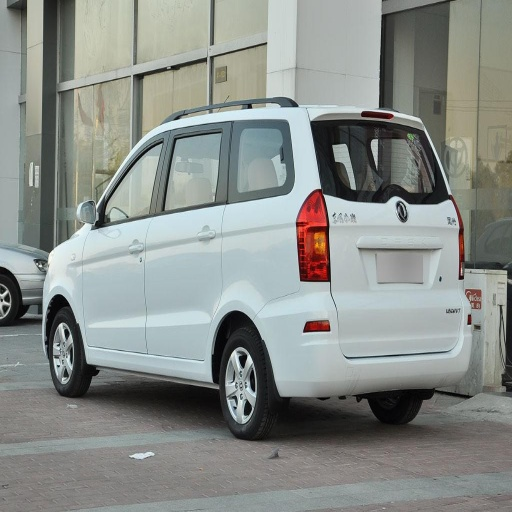back_bumper: (274, 283, 475, 396)
back_glass: (320, 121, 439, 202)
back_left_door: (147, 120, 279, 361)
trunk: (303, 202, 469, 356)
